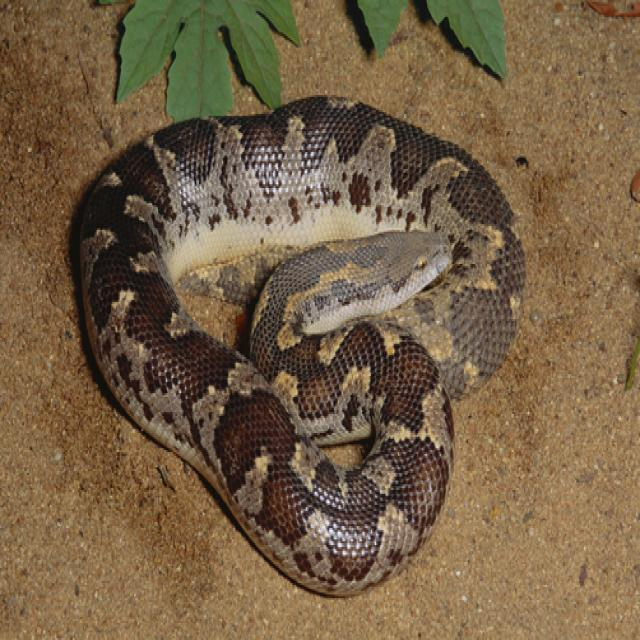Snake: (73, 91, 530, 604)
